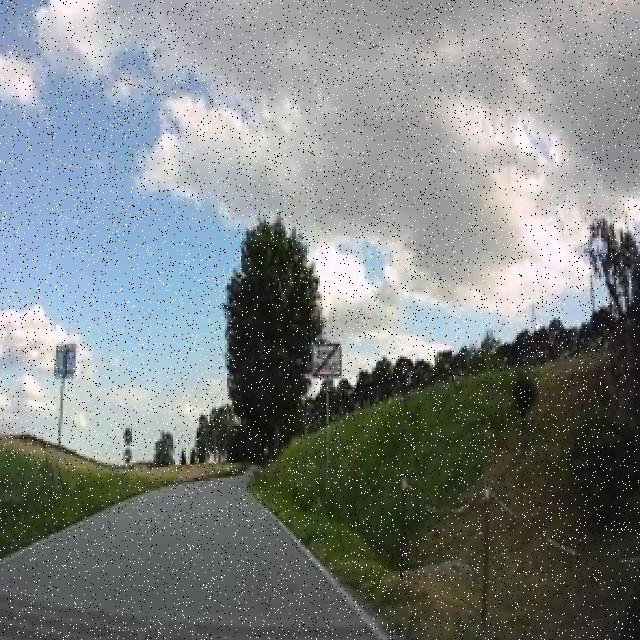clear-road: (0, 475, 358, 625)
